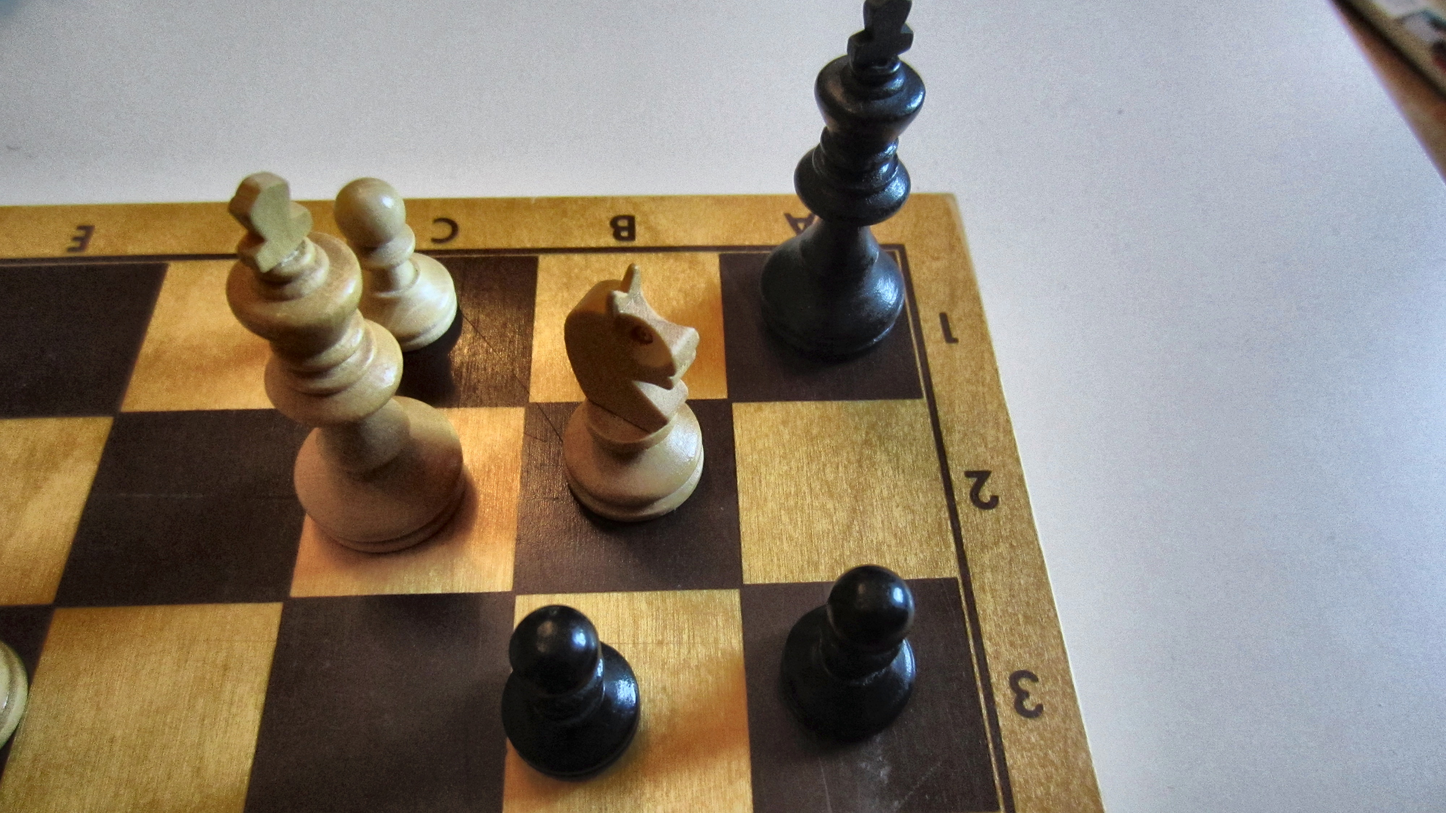black-king: (756, 0, 929, 360)
black-pawn: (779, 562, 919, 744), (500, 605, 641, 778)
white-king: (224, 170, 471, 556)
white-knight: (552, 263, 706, 524)
white-pawn: (332, 176, 459, 353)
